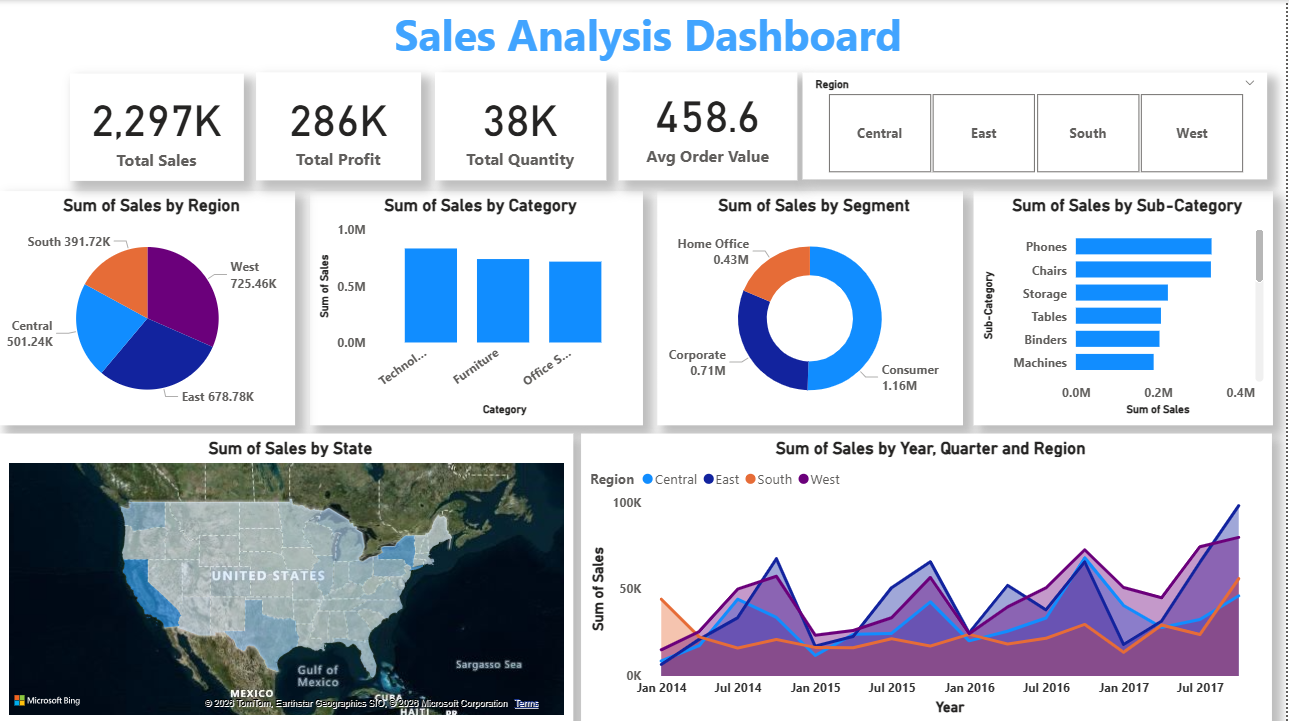

Layout of this report page (visuals, bound fields, positions):
{"tool":"powerbi","page":{"name":"Sales Dashboard","canvas":[1280,720],"ordinal":1},"visuals":[{"type":"textbox","box":[10,0,1270.1,72.1],"z":0},{"type":"clusteredColumnChart","fields":{"Y":["Sum(Sample_Superstore_Cleaned (1).Sales)"],"Category":["Sample_Superstore_Cleaned (1).Category"]},"box":[308.8,190,331.2,232.5],"z":1000},{"type":"pieChart","fields":{"Y":["Sum(Sample_Superstore_Cleaned (1).Sales)"],"Category":["Sample_Superstore_Cleaned (1).Region"]},"box":[0,190,293.8,232.5],"z":2000},{"type":"donutChart","fields":{"Y":["Sum(Sample_Superstore_Cleaned (1).Sales)"],"Category":["Sample_Superstore_Cleaned (1).Segment"]},"box":[653.8,190,303.8,232.5],"z":3000},{"type":"clusteredBarChart","fields":{"Category":["Sample_Superstore_Cleaned (1).Sub-Category"],"Y":["Sum(Sample_Superstore_Cleaned (1).Sales)"]},"box":[968.8,190,297.5,232.5],"z":4000},{"type":"filledMap","fields":{"Category":["Sample_Superstore_Cleaned (1).State"]},"box":[0,431.2,570,288.8],"z":5000},{"type":"lineChart","fields":{"Category":["Sample_Superstore_Cleaned (1).Order Date.Variation.Date Hierarchy.Year","Sample_Superstore_Cleaned (1).Order Date.Variation.Date Hierarchy.Quarter"],"Y":["Sum(Sample_Superstore_Cleaned (1).Sales)"],"Series":["Sample_Superstore_Cleaned (1).Region"]},"box":[578.8,431.2,687.5,288.8],"z":6000},{"type":"card","fields":{"Values":["Sum(Salesforecast.Total Sales)"]},"box":[70,73.8,172.5,106.2],"z":7000},{"type":"card","fields":{"Values":["Sum(Sample_Superstore_Cleaned (1).Profit)"]},"box":[255,72.5,163.8,107.5],"z":8000},{"type":"card","fields":{"Values":["Sum(Sample_Superstore_Cleaned (1).Quantity)"]},"box":[432.5,72.5,170,107.5],"z":9000},{"type":"card","fields":{"Values":["Salesforecast.AOV"]},"box":[616.2,72.5,177.5,107.5],"z":10000},{"type":"slicer","fields":{"Values":["Sample_Superstore_Cleaned (1).Region"]},"box":[799,72.5,462.5,106],"z":11000}]}

Visuals, with their boxes in screenshot pixels (x1, y1, x2, y2), scaled from the page's 1280x720 canvas onto the 1289x721 screenshot:
textbox: (left=10, top=0, right=1288, bottom=72)
clusteredColumnChart - Sum(Sample_Superstore_Cleaned (1).Sales) x Sample_Superstore_Cleaned (1).Category: (left=311, top=190, right=644, bottom=423)
pieChart - Sum(Sample_Superstore_Cleaned (1).Sales) x Sample_Superstore_Cleaned (1).Region: (left=0, top=190, right=296, bottom=423)
donutChart - Sum(Sample_Superstore_Cleaned (1).Sales) x Sample_Superstore_Cleaned (1).Segment: (left=658, top=190, right=964, bottom=423)
clusteredBarChart - Sample_Superstore_Cleaned (1).Sub-Category x Sum(Sample_Superstore_Cleaned (1).Sales): (left=976, top=190, right=1275, bottom=423)
filledMap - Sample_Superstore_Cleaned (1).State: (left=0, top=432, right=574, bottom=720)
lineChart - Sample_Superstore_Cleaned (1).Order Date.Variation.Date Hierarchy.Year x Sample_Superstore_Cleaned (1).Order Date.Variation.Date Hierarchy.Quarter: (left=583, top=432, right=1275, bottom=720)
card - Sum(Salesforecast.Total Sales): (left=70, top=74, right=244, bottom=180)
card - Sum(Sample_Superstore_Cleaned (1).Profit): (left=257, top=73, right=422, bottom=180)
card - Sum(Sample_Superstore_Cleaned (1).Quantity): (left=436, top=73, right=607, bottom=180)
card - Salesforecast.AOV: (left=621, top=73, right=799, bottom=180)
slicer - Sample_Superstore_Cleaned (1).Region: (left=805, top=73, right=1270, bottom=179)
